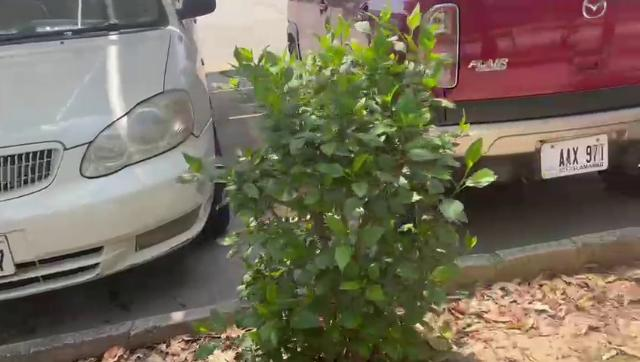plate: (538, 132, 612, 174)
